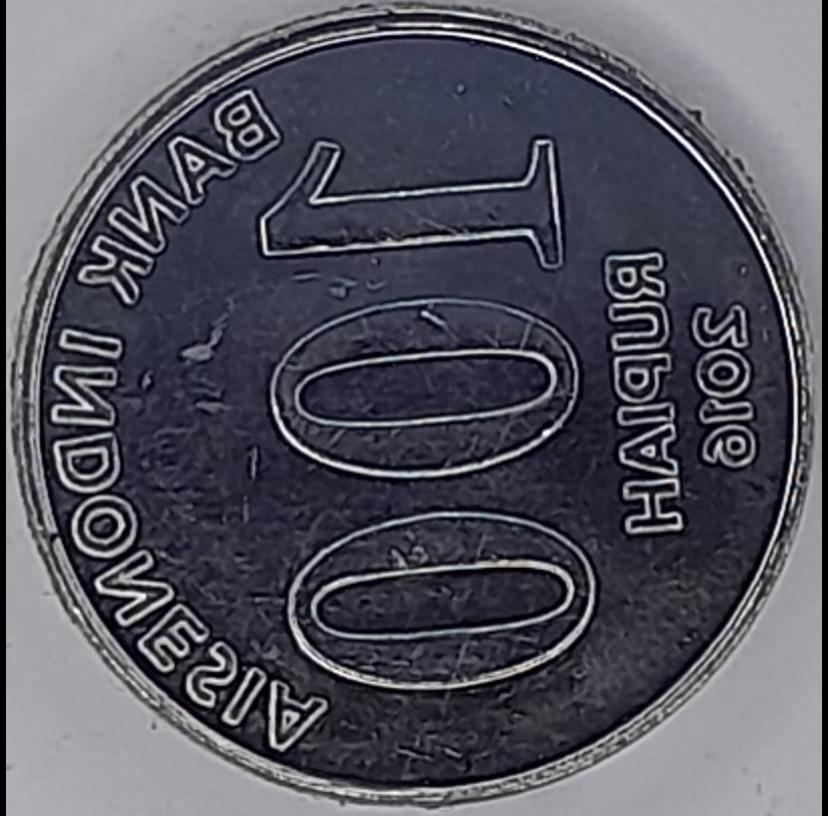coin_100_e2016: (7, 0, 818, 811)
